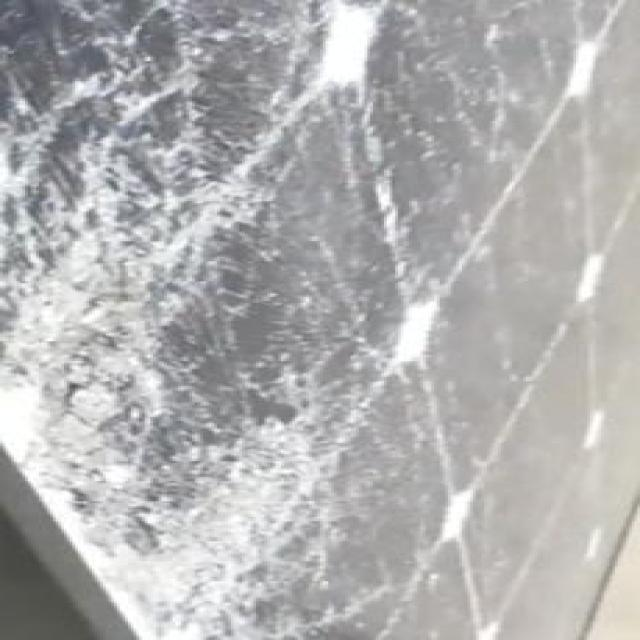cracked: (0, 1, 637, 637)
